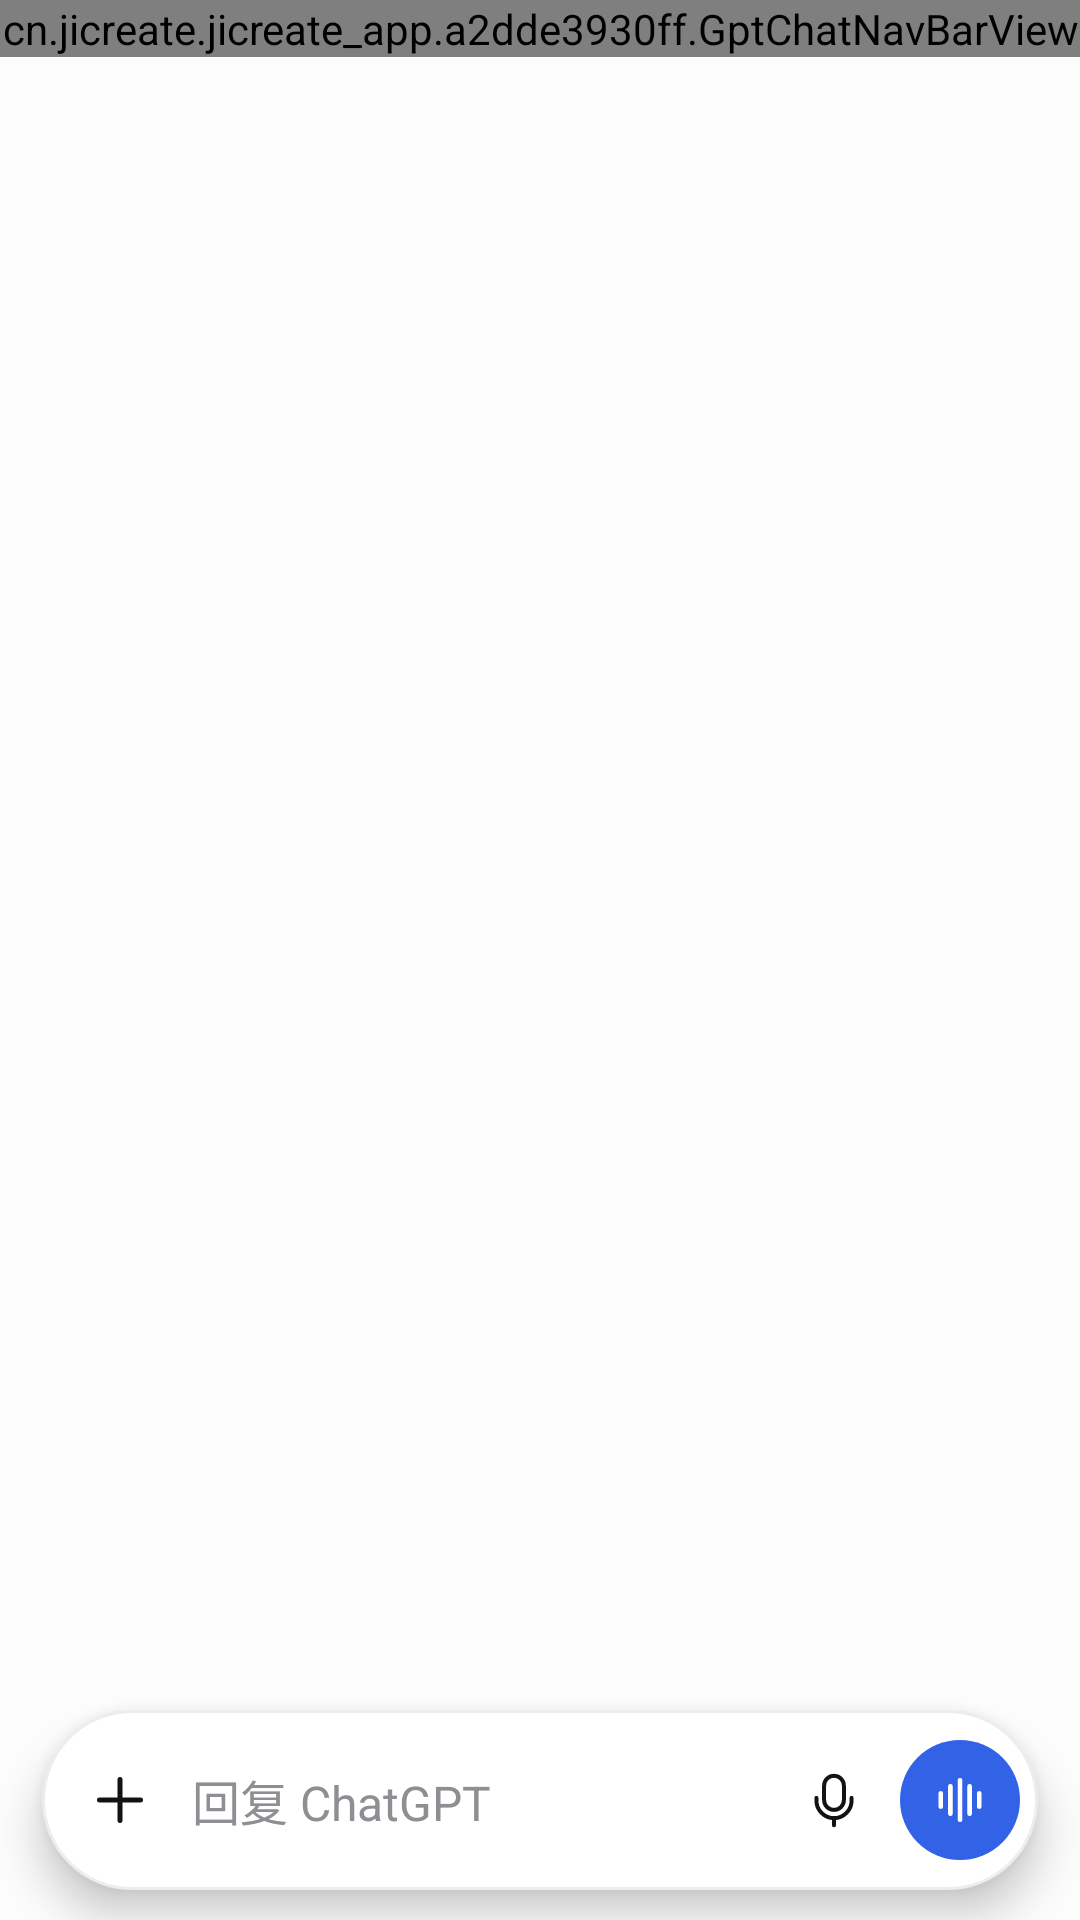

Icons on this 1080x1920 Android screen, each with its box as (x1, y1, x2, y2):
添加内容: (97, 1777, 143, 1823)
语音输入: (900, 1740, 1020, 1860)
麦克风: (814, 1773, 854, 1828)
